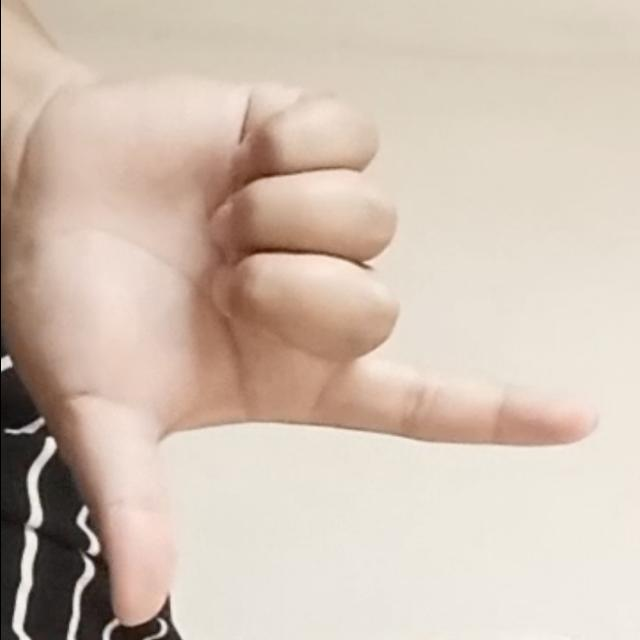LL: (23, 67, 600, 631)
